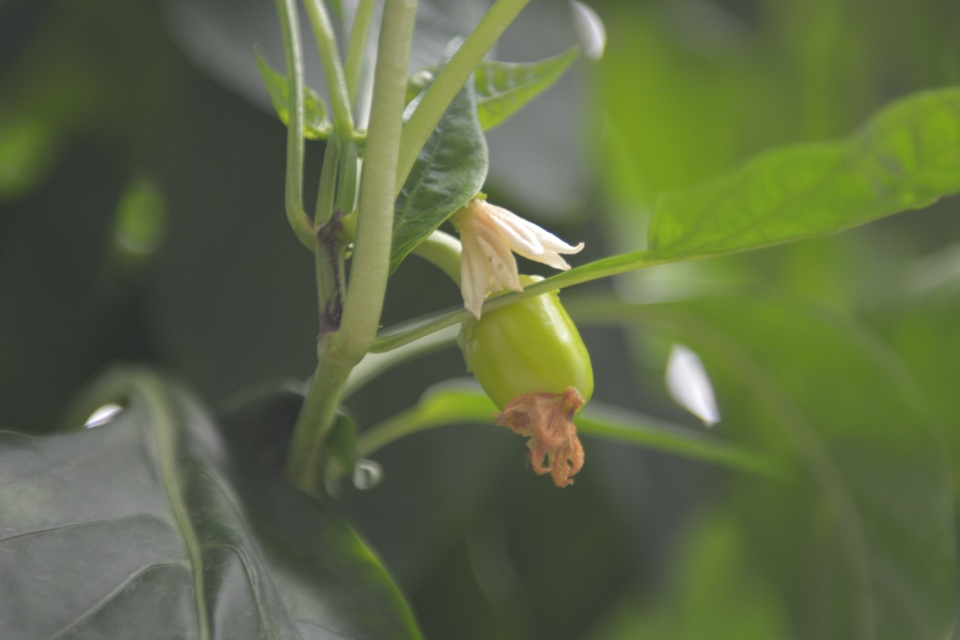flower: (455, 197, 587, 322)
immature: (454, 271, 597, 489)
